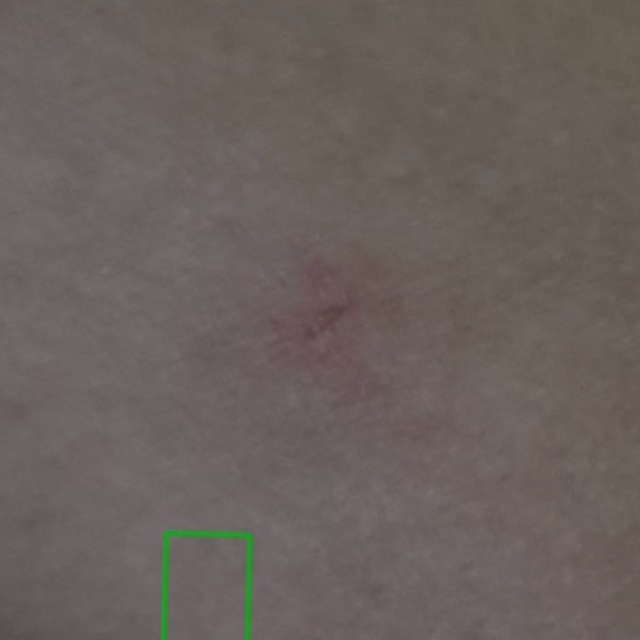Seborrheic Dermatitis: (163, 533, 249, 639)
